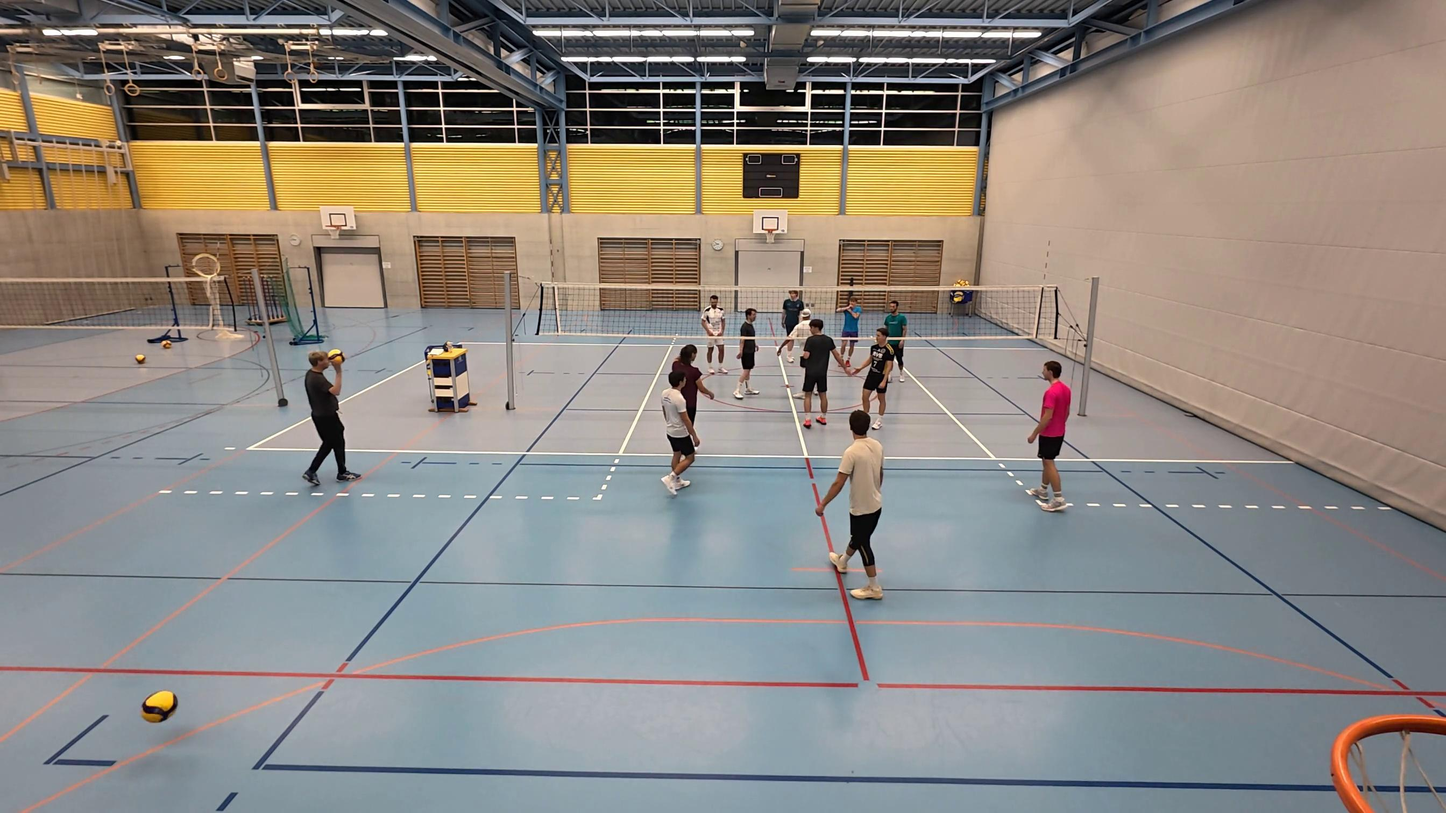Player: (817, 410, 883, 599), (661, 345, 715, 495), (1026, 360, 1071, 512), (668, 342, 716, 462), (848, 329, 894, 432), (795, 318, 837, 427), (733, 308, 761, 400), (881, 299, 910, 382), (774, 289, 807, 361), (838, 295, 864, 372), (701, 295, 727, 369)
ball: (141, 689, 176, 721), (325, 350, 344, 365)
